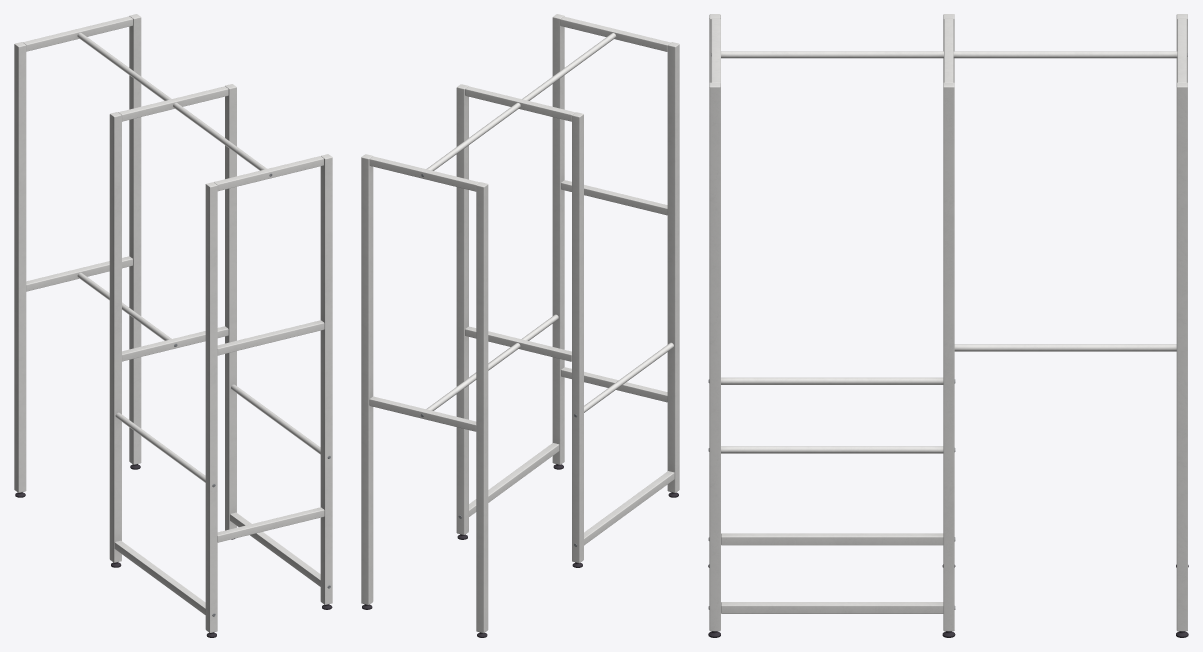
The model's file is wardrobe7.glb.
The picture shows the model from 3 angles, left to right: view 1: azimuth 30°, elevation 25°; view 2: azimuth 150°, elevation 25°; view 3: azimuth 270°, elevation 25°; orthographic projection. The views are drawn at different scales.
Parts seen in each view (by area): view 1: polySurface110; view 2: polySurface110; view 3: polySurface110.
Boxes of the visible parts, x1,y1,x2,y2 form: polySurface110: (14, 14, 332, 637); polySurface110: (361, 14, 679, 637); polySurface110: (708, 14, 1188, 637).
Bounding box in the file's own units: 0.5718 × 1.99 × 1.57.
1 material, 1 textured.
